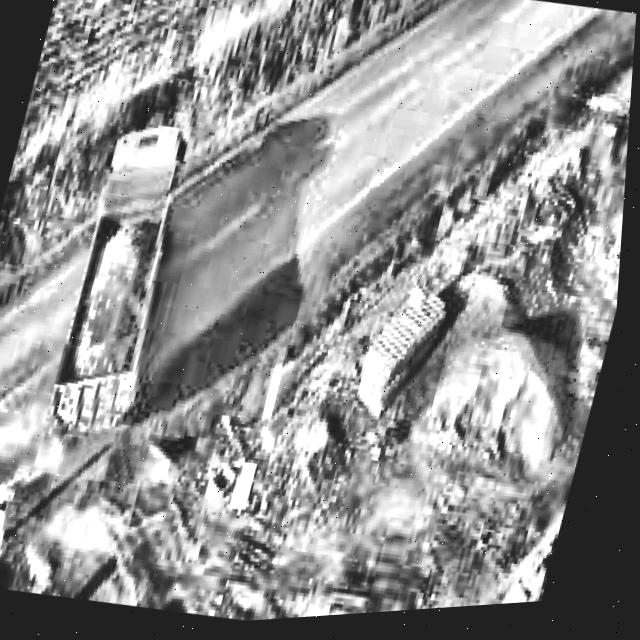dump_truck: (35, 107, 210, 456)
